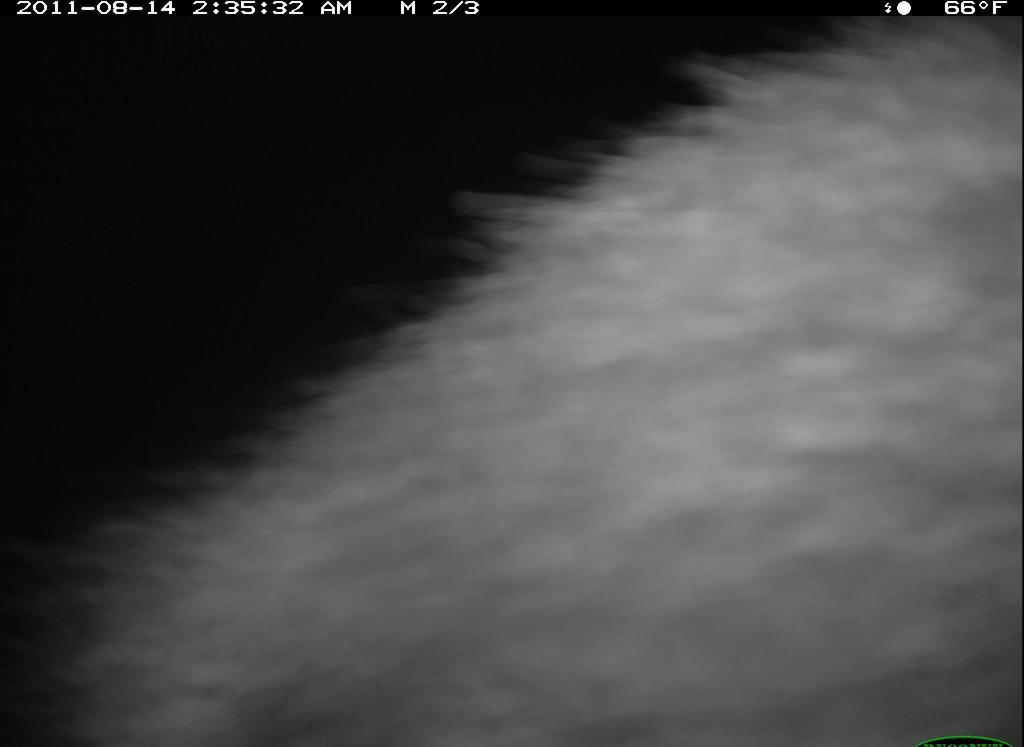raccoon: (38, 9, 1023, 747)
